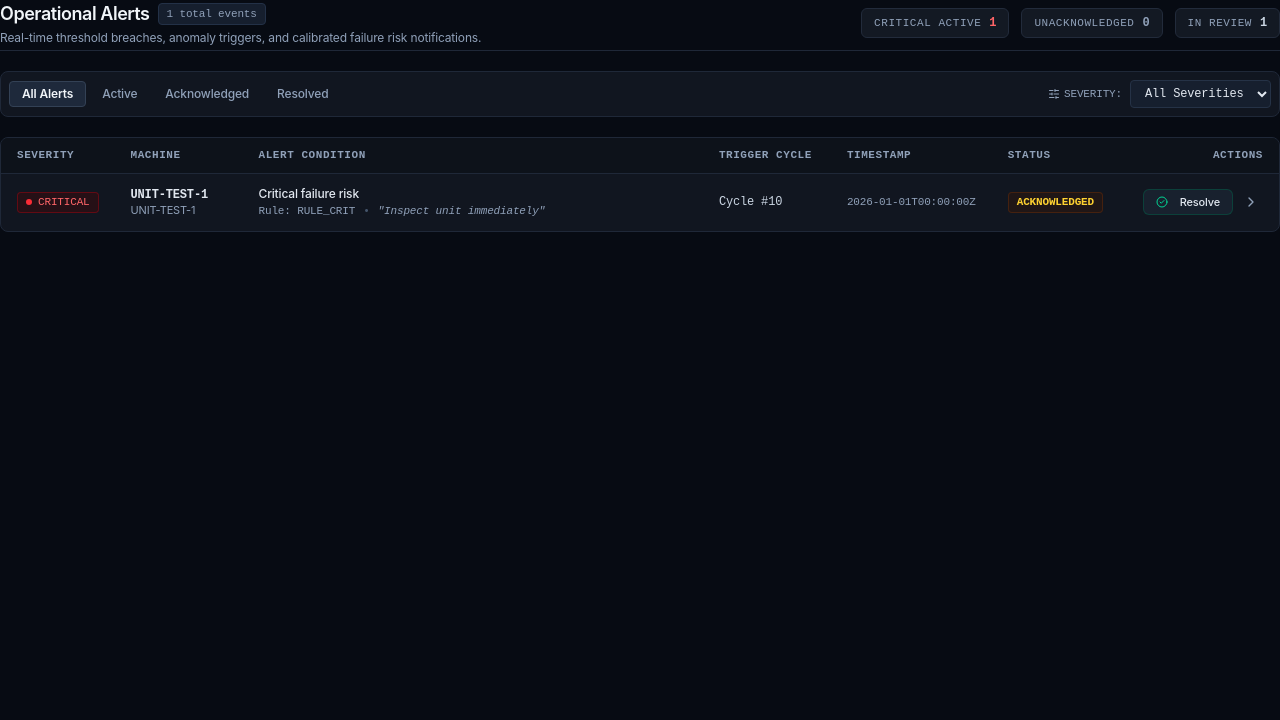
Test: Verification of Items 1-5 (No hardcoded values & honest empty states) › Item 4: Resolve dialog requires engineer to select resolution type before submitting
Click Resolve button on the acknowledged alert row to open modal
Click the button "Resolve": (1188, 202) [1143, 189, 1233, 215]
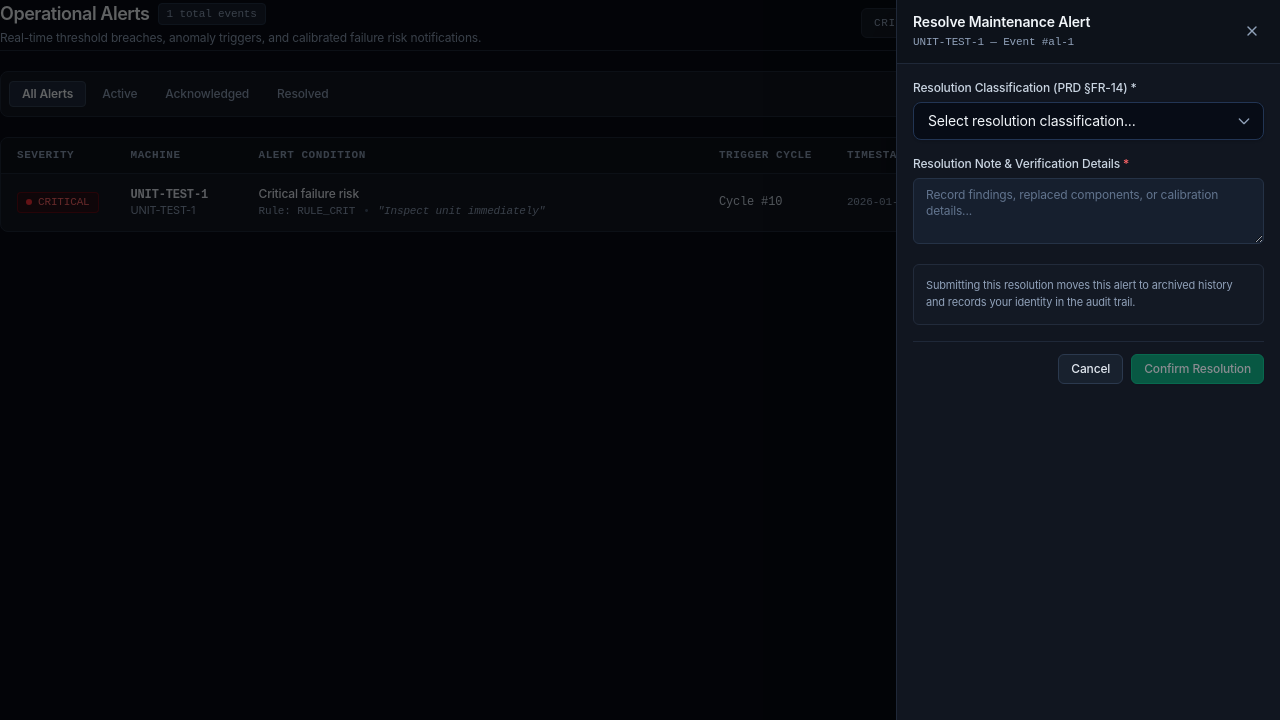
Expected: the button "Confirm Resolution" is disabled, [1131, 354, 1264, 384]
